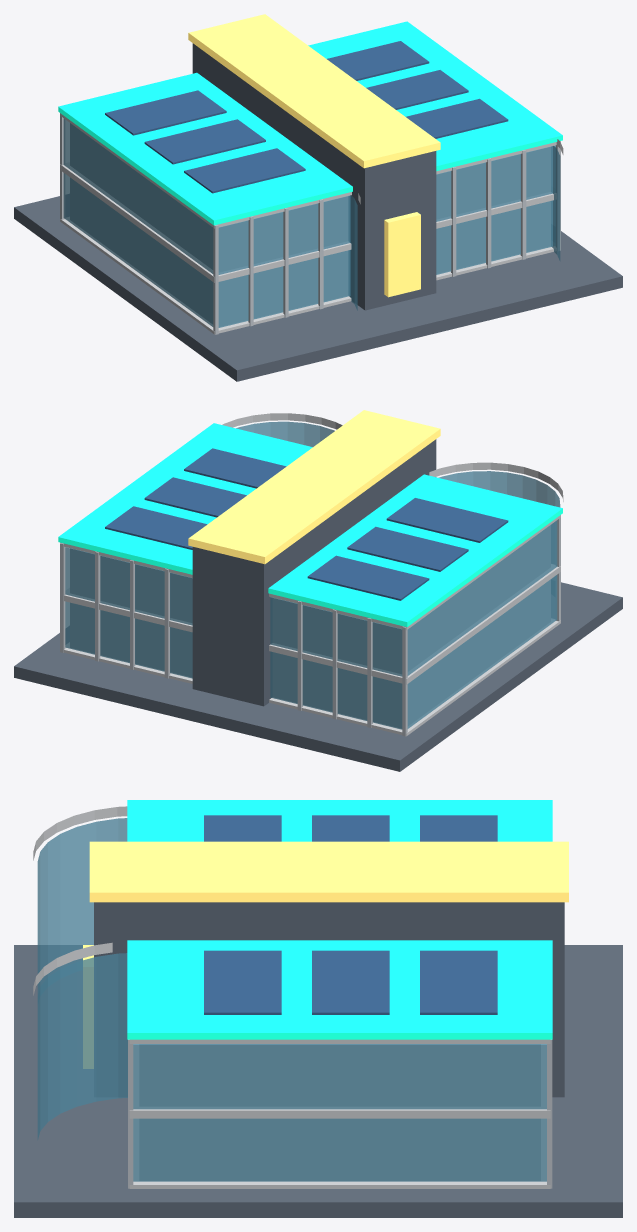
File: high_performance_centre.glb
3 renders of one model, top to bottom at view 1: azimuth 30°, elevation 25°; view 2: azimuth 150°, elevation 25°; view 3: azimuth 270°, elevation 25°, orthographic. The views are drawn at different scales.
Parts seen in each view (by area): view 1: high_performance_centre; view 2: high_performance_centre; view 3: high_performance_centre.
Part boxes in pixels (box(x1,y1,x2,y2)): high_performance_centre: box(14, 14, 622, 381); high_performance_centre: box(14, 410, 622, 771); high_performance_centre: box(14, 800, 622, 1217).
Size of the model in its own units: 2.82 by 1.13 by 2.82.
